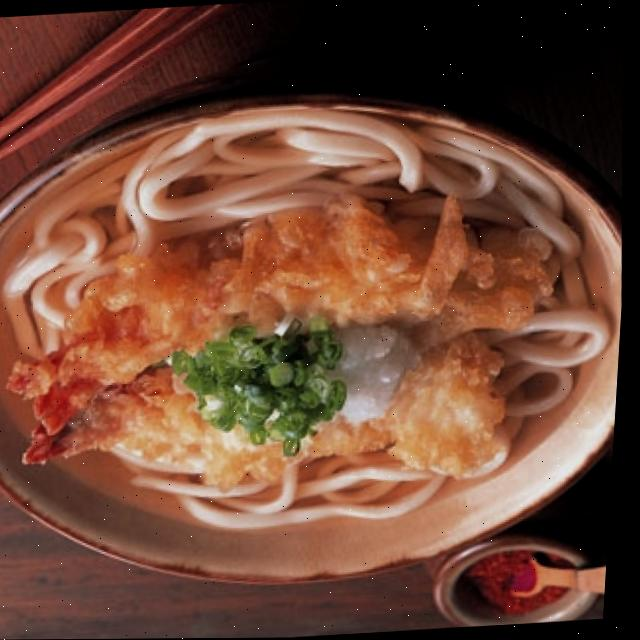面条主食: (0, 65, 637, 564)
